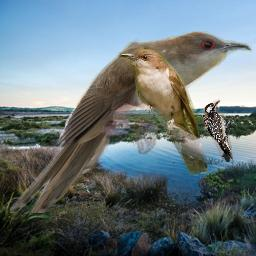Cuckoo: (10, 31, 252, 213), (118, 46, 208, 176)
Woodpecker: (200, 98, 241, 162)
